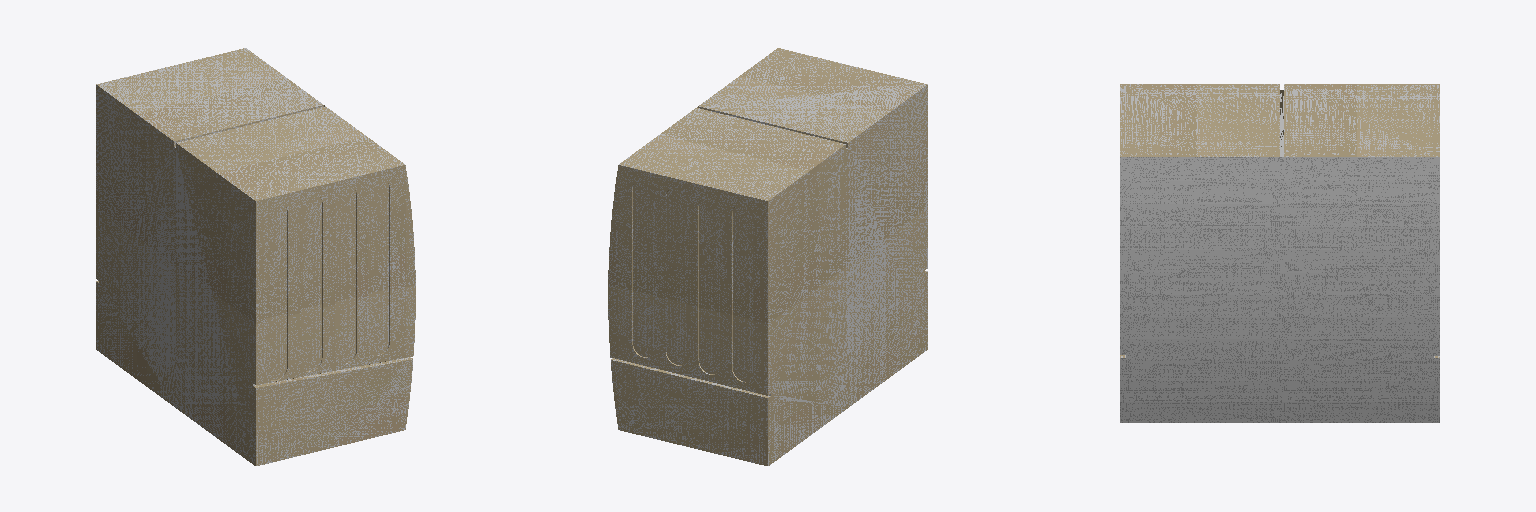
The picture shows the model from 3 angles: view 1: azimuth 30°, elevation 25°; view 2: azimuth 150°, elevation 25°; view 3: azimuth 270°, elevation 25°; orthographic projection.
Parts seen in each view (by area): view 1: mesh1_mesh1-geometry; view 2: mesh1_mesh1-geometry; view 3: mesh1_mesh1-geometry.
Part boxes in pixels (x1,y1,x2,y2): mesh1_mesh1-geometry: (96, 48, 415, 465); mesh1_mesh1-geometry: (608, 48, 927, 465); mesh1_mesh1-geometry: (1120, 84, 1439, 422).
Size of the model in its own units: 0.3924 by 0.6215 by 0.678.
4 materials, 1 textured.